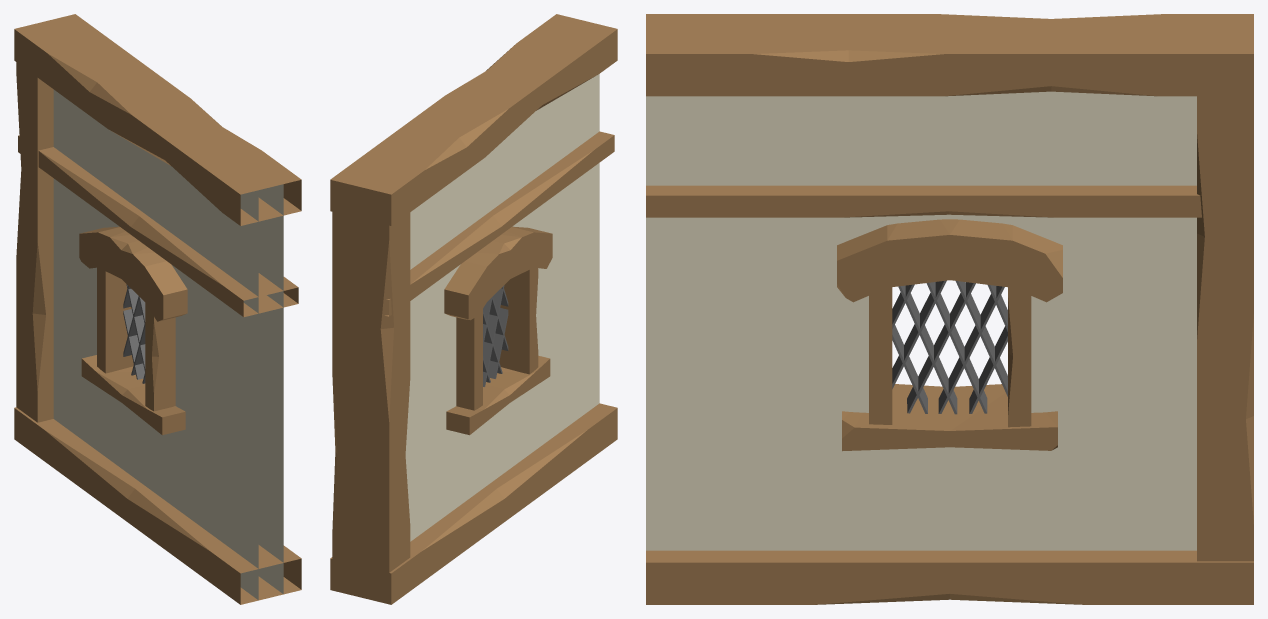
File: SFV_Window2_Wooden_M_002.fbx
The picture shows the model from 3 angles, left to right: view 1: azimuth 30°, elevation 25°; view 2: azimuth 150°, elevation 25°; view 3: azimuth 270°, elevation 25°; orthographic projection. The views are drawn at different scales.
Visible parts, largest first — view 1: SFV_Window2_Wooden_M_002; view 2: SFV_Window2_Wooden_M_002; view 3: SFV_Window2_Wooden_M_002.
Part boxes in pixels (<box>): SFV_Window2_Wooden_M_002: <box>14,14,301,604</box>; SFV_Window2_Wooden_M_002: <box>330,14,617,604</box>; SFV_Window2_Wooden_M_002: <box>646,14,1253,604</box>.
Size of the model in its own units: 56.2 by 300 by 300.
